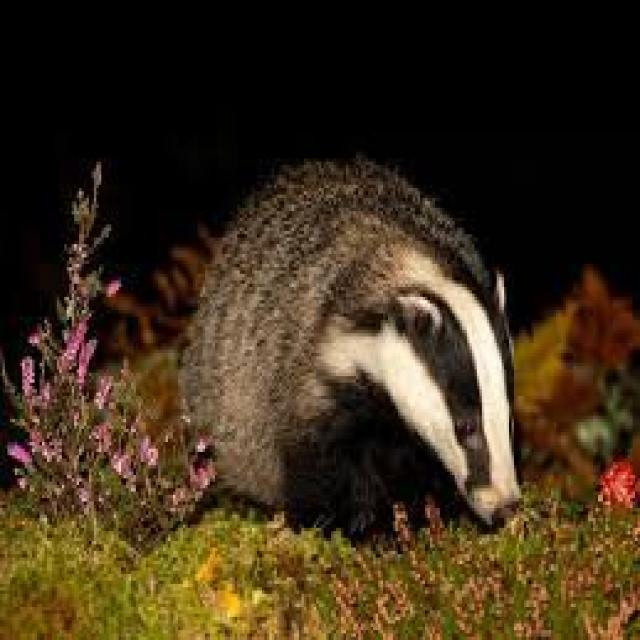Badger: (179, 148, 530, 543)
